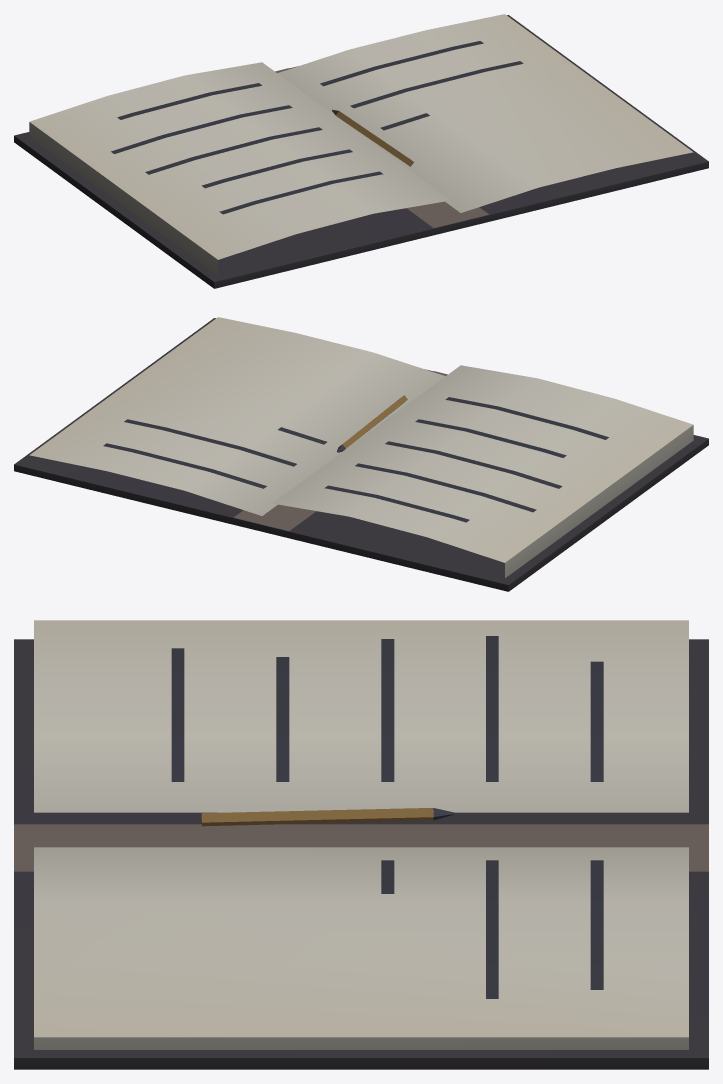
Rendered from rd_ledger.glb.
3 renders of one model, top to bottom at view 1: azimuth 30°, elevation 25°; view 2: azimuth 150°, elevation 25°; view 3: azimuth 270°, elevation 25°, orthographic. The views are drawn at different scales.
Visible parts, largest first — view 1: rd_ledger_mesh; view 2: rd_ledger_mesh; view 3: rd_ledger_mesh.
Boxes of the visible parts, <box> form: rd_ledger_mesh: <box>14,14,708,288</box>; rd_ledger_mesh: <box>14,317,708,591</box>; rd_ledger_mesh: <box>14,620,708,1069</box>.
Size of the model in its own units: 0.6201 by 0.0381 by 0.4351.
